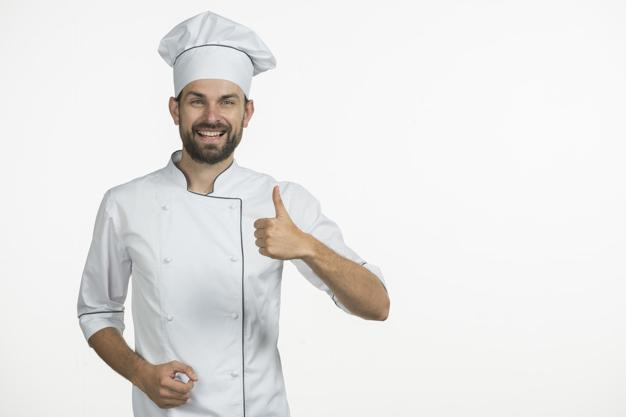thumbsup: (253, 185, 289, 257)
